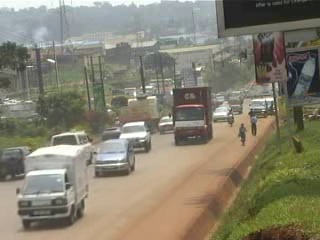Car: (88, 137, 137, 178), (0, 142, 37, 180), (117, 119, 154, 154), (155, 115, 175, 135), (212, 102, 231, 123), (96, 128, 124, 141), (227, 96, 246, 115)
Motorcycle: (225, 108, 235, 127)
